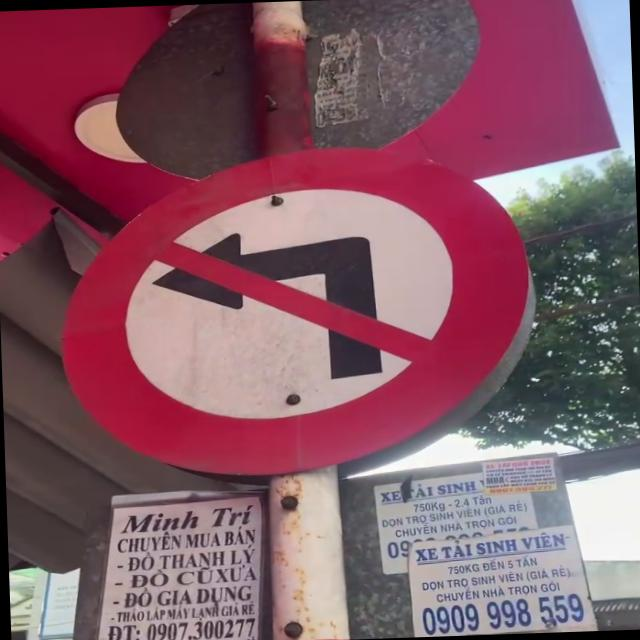Cam_Re_Trai: (51, 140, 538, 484)
